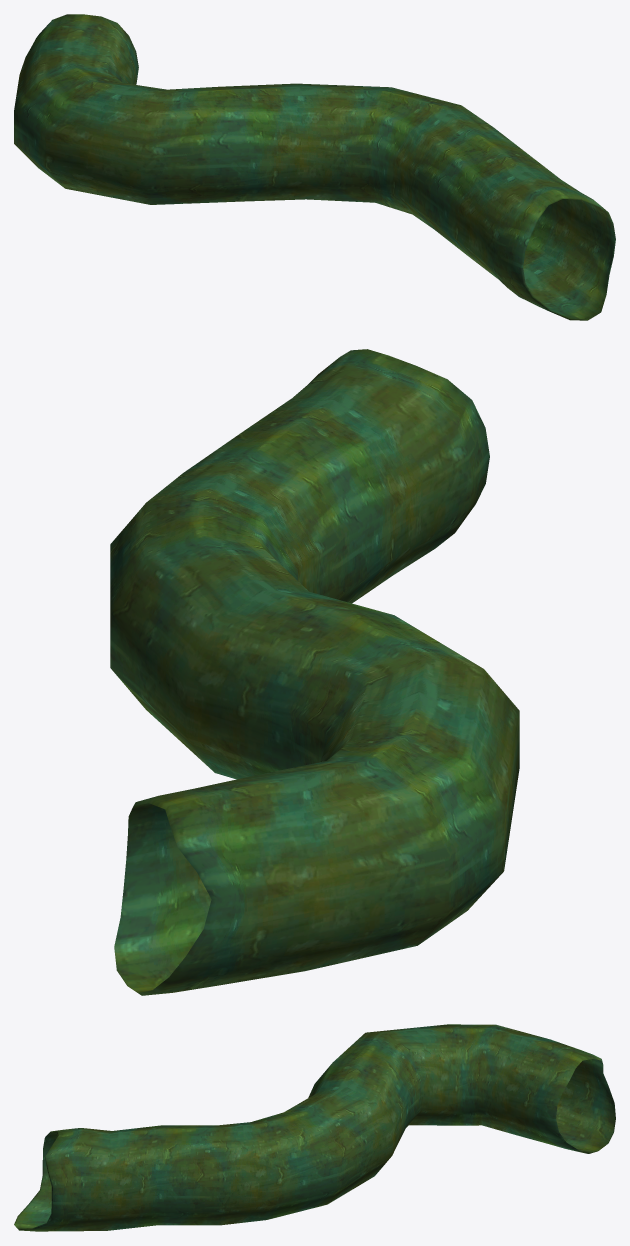
The model's file is MIRKWOOD_MIRK_PLAYSURFACE90.fbx.
3 renders of one model, top to bottom at view 1: azimuth 30°, elevation 25°; view 2: azimuth 150°, elevation 25°; view 3: azimuth 270°, elevation 25°, orthographic. The views are drawn at different scales.
Parts seen in each view (by area): view 1: MIRKWOOD_MIRK_PLAYSURFACE90; view 2: MIRKWOOD_MIRK_PLAYSURFACE90; view 3: MIRKWOOD_MIRK_PLAYSURFACE90.
Boxes of the visible parts, box(x1,y1,x2,y2) form: MIRKWOOD_MIRK_PLAYSURFACE90: box(14, 14, 615, 320); MIRKWOOD_MIRK_PLAYSURFACE90: box(110, 349, 519, 995); MIRKWOOD_MIRK_PLAYSURFACE90: box(14, 1024, 615, 1231).
Size of the model in its own units: 156740 by 53960 by 276796.
1 material, 1 textured.
